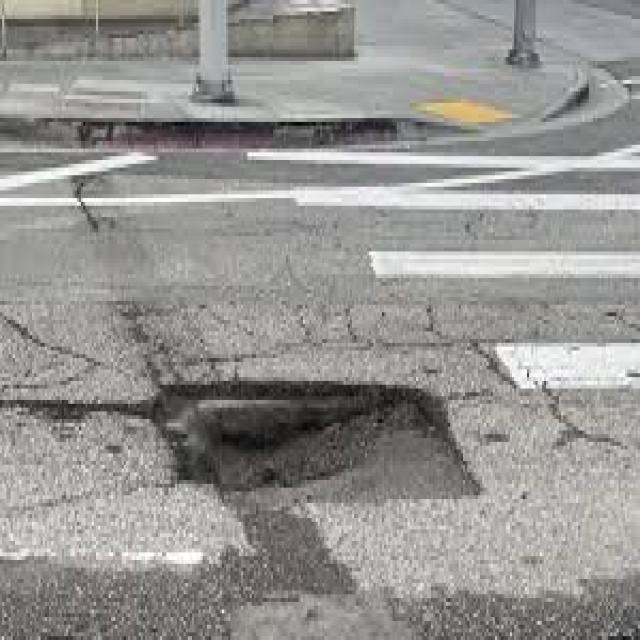Pothole: (147, 381, 480, 495)
